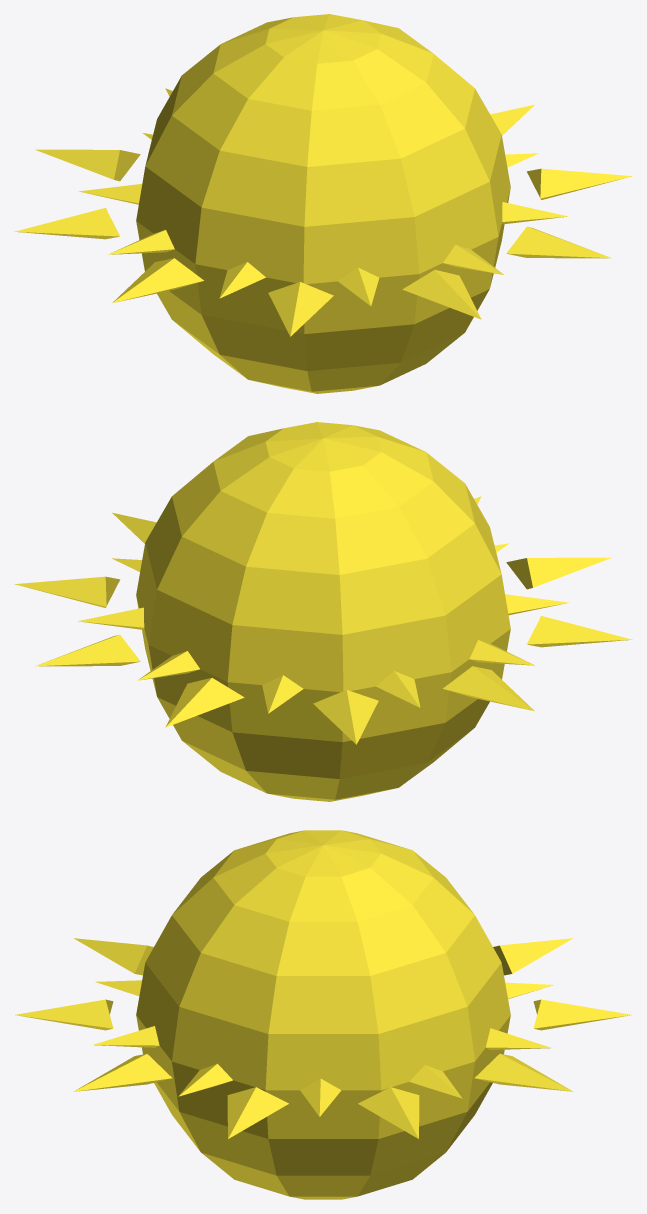
Rendered from Sun_01.gltf.
3 renders of one model, top to bottom at view 1: azimuth 30°, elevation 25°; view 2: azimuth 150°, elevation 25°; view 3: azimuth 270°, elevation 25°, orthographic. The views are drawn at different scales.
Parts seen in each view (by area): view 1: node-0; view 2: node-0; view 3: node-0.
Part boxes in pixels (bbox=[...]): node-0: bbox=[14, 14, 632, 393]; node-0: bbox=[14, 422, 632, 801]; node-0: bbox=[15, 830, 631, 1199].
Size of the model in its own units: 503 by 320 by 529.
